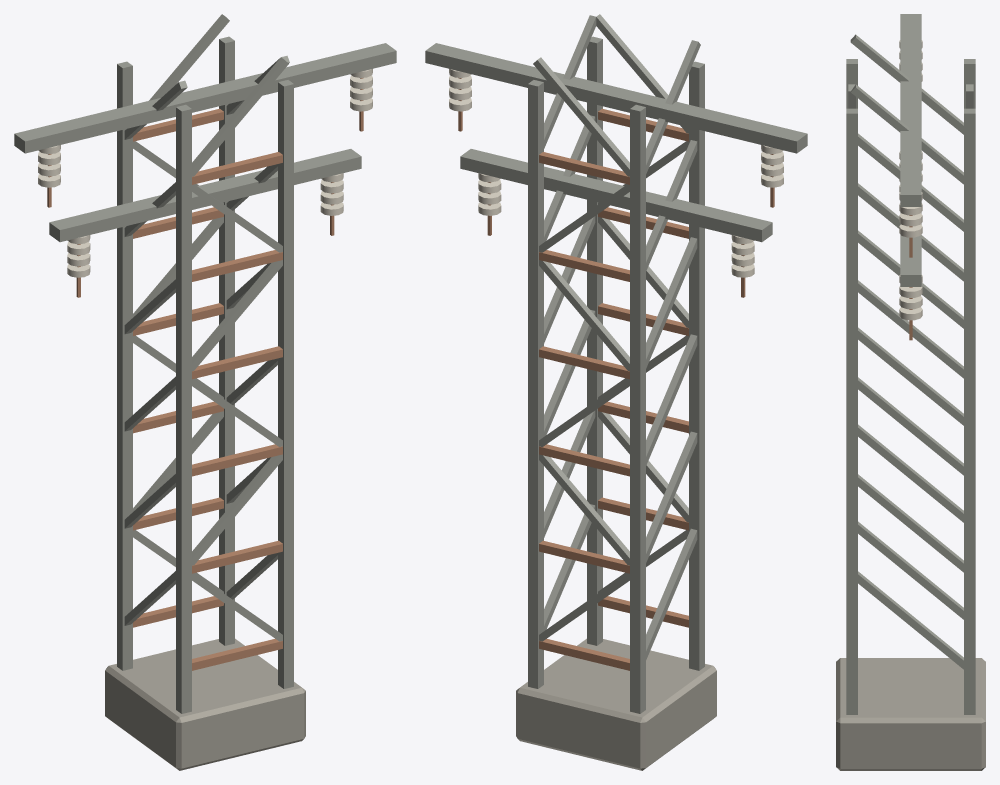
The model's file is waste_pylon.glb.
The picture shows the model from 3 angles, left to right: view 1: azimuth 30°, elevation 25°; view 2: azimuth 150°, elevation 25°; view 3: azimuth 270°, elevation 25°; orthographic projection.
Visible parts, largest first — view 1: concrete, duststeel.001, duststeel.003, duststeel, duststeel.029, duststeel.002, duststeel.028, duststeel.025, duststeel.017, duststeel.009, duststeel.024, rust.009 (+22 smaller); view 2: concrete, duststeel, duststeel.002, duststeel.001, duststeel.029, duststeel.003, duststeel.028, duststeel.024, duststeel.016, duststeel.008, duststeel.014, duststeel.018 (+28 smaller); view 3: concrete, duststeel.002, duststeel.003, duststeel.029, duststeel.006, duststeel.010, duststeel.015, duststeel.011, duststeel.014, duststeel.007, duststeel.019, duststeel.026 (+7 smaller).
Part boxes in pixels (<box>): concrete: <box>105,638,305,770</box>; duststeel.001: <box>176,104,191,713</box>; duststeel.003: <box>278,80,293,688</box>; duststeel: <box>117,61,132,670</box>; duststeel.029: <box>14,43,396,153</box>; duststeel.002: <box>219,36,234,645</box>; duststeel.028: <box>49,149,361,242</box>; duststeel.025: <box>192,57,288,176</box>; duststeel.017: <box>192,260,282,371</box>; duststeel.009: <box>192,454,282,565</box>; duststeel.024: <box>149,14,229,100</box>; rust.009: <box>192,444,282,476</box>; concrete: <box>516,638,716,770</box>; duststeel: <box>630,104,645,713</box>; duststeel.002: <box>528,80,543,688</box>; duststeel.001: <box>689,61,704,670</box>; duststeel.029: <box>425,43,807,153</box>; duststeel.003: <box>587,36,602,645</box>; duststeel.028: <box>460,149,772,242</box>; duststeel.024: <box>533,57,629,176</box>; duststeel.016: <box>539,260,629,371</box>; duststeel.008: <box>539,454,629,565</box>; duststeel.014: <box>646,334,697,465</box>; duststeel.018: <box>646,237,697,368</box>; concrete: <box>836,658,985,770</box>; duststeel.002: <box>964,108,975,714</box>; duststeel.003: <box>846,108,857,714</box>; duststeel.029: <box>900,14,921,206</box>; duststeel.006: <box>858,521,963,619</box>; duststeel.010: <box>858,424,963,522</box>; duststeel.015: <box>858,377,963,475</box>; duststeel.011: <box>858,474,963,572</box>; duststeel.014: <box>858,327,963,425</box>; duststeel.007: <box>858,571,963,669</box>; duststeel.019: <box>858,280,963,378</box>; duststeel.026: <box>850,34,963,134</box>.
Size of the model in its own units: 8 by 14.02 by 2.8.
